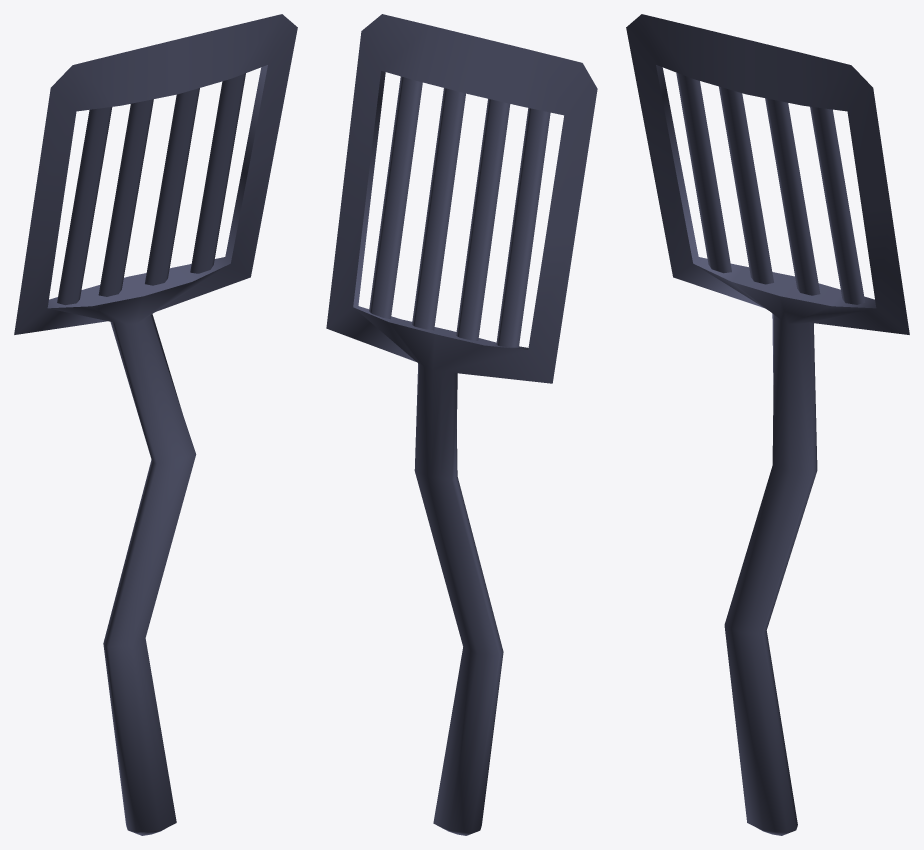
File: Spatula.fbx
3 renders of one model, left to right at view 1: azimuth 30°, elevation 25°; view 2: azimuth 150°, elevation 25°; view 3: azimuth 330°, elevation 25°, orthographic. The views are drawn at different scales.
Parts seen in each view (by area): view 1: Spatula; view 2: Spatula; view 3: Spatula.
Boxes of the visible parts, x1,y1,x2,y2 form: Spatula: (14, 14, 297, 835); Spatula: (326, 14, 597, 835); Spatula: (626, 14, 909, 835).
Bounding box in the file's own units: 30.98 × 97.51 × 11.33.
